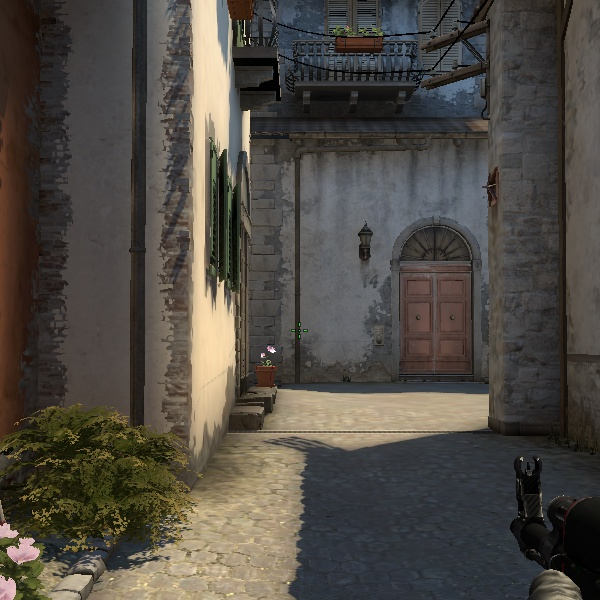t_body: (245, 343, 285, 428)
